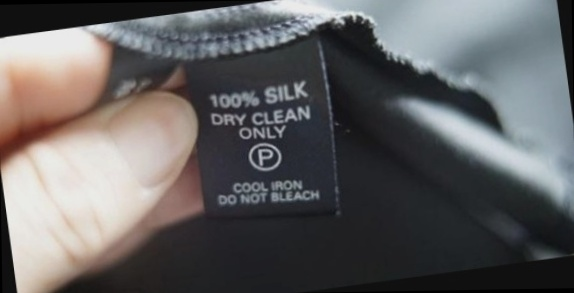dry_clean_any_solvent_except_trichloroethylene: (247, 139, 285, 173)
